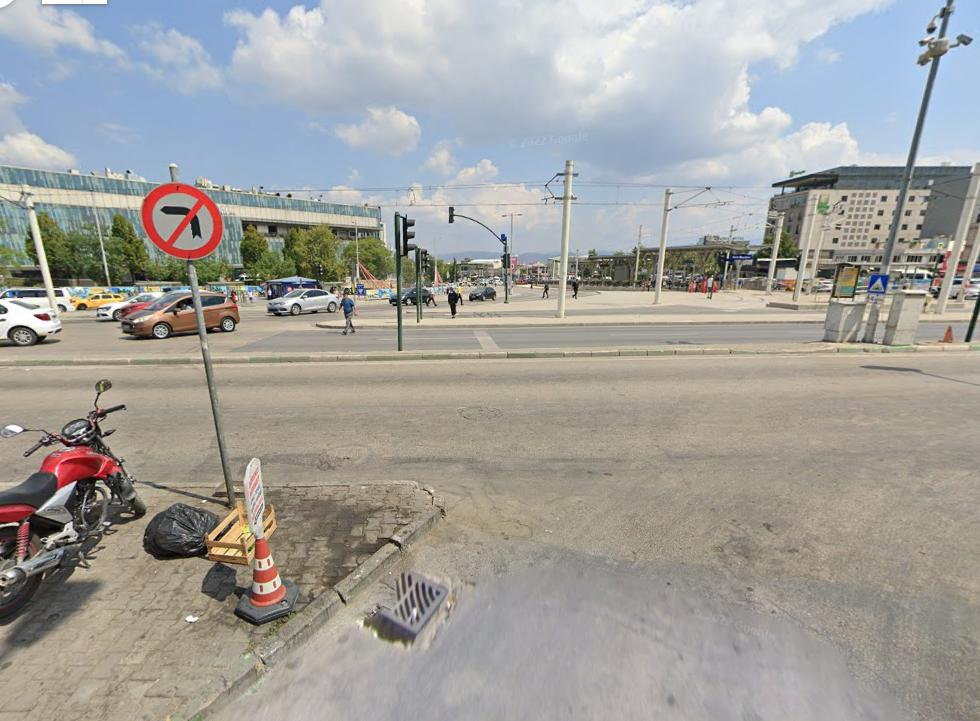leftturnsareforbidden: (140, 182, 224, 259)
